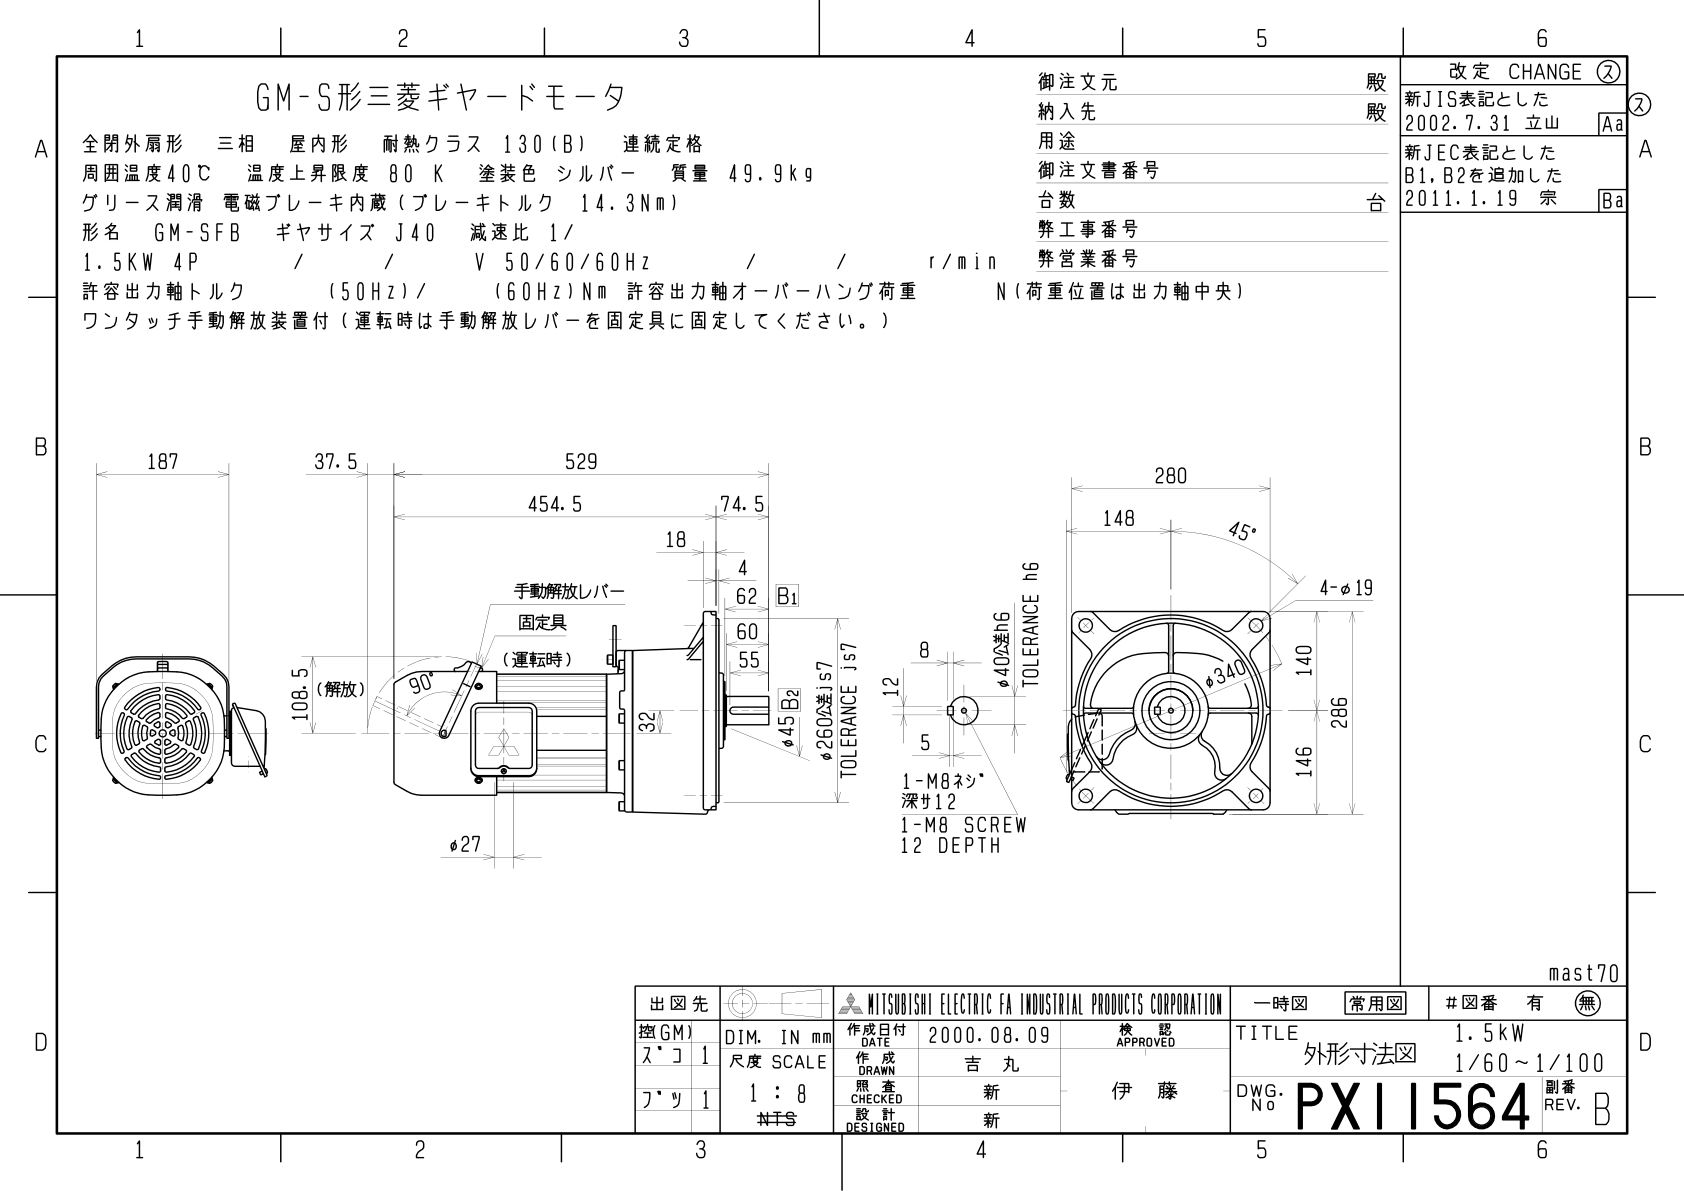GM_S_手動ブレーキ＿三相_フランジ: (4, 6, 1679, 1191)
